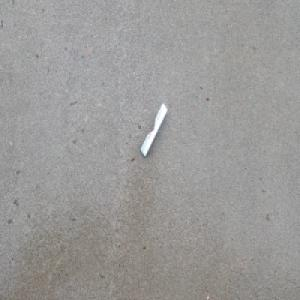ClampPart: (139, 101, 168, 159)
